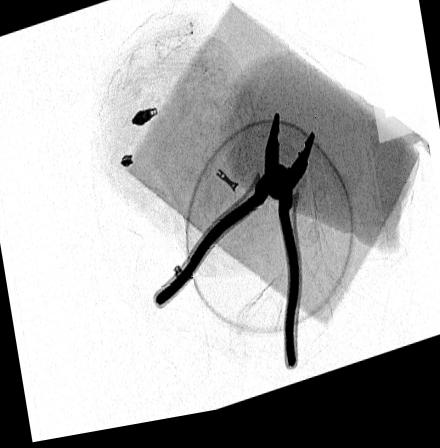Pliers: (151, 120, 316, 382)
